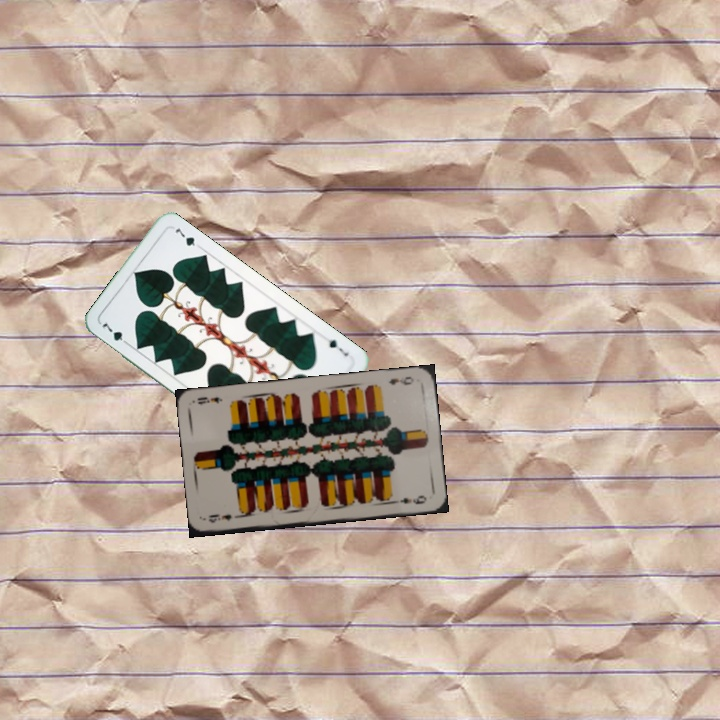E9: (204, 510, 243, 525), (385, 372, 416, 387)
G7: (98, 319, 132, 348), (324, 335, 352, 359)
